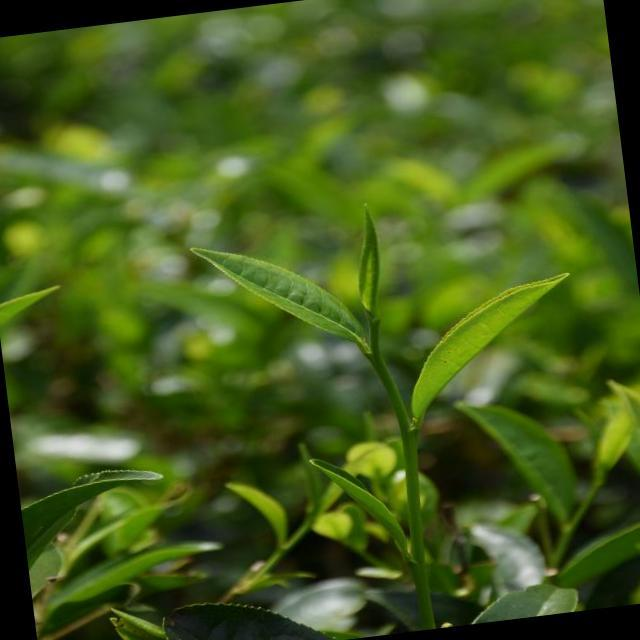Stem: (369, 351, 392, 383)
